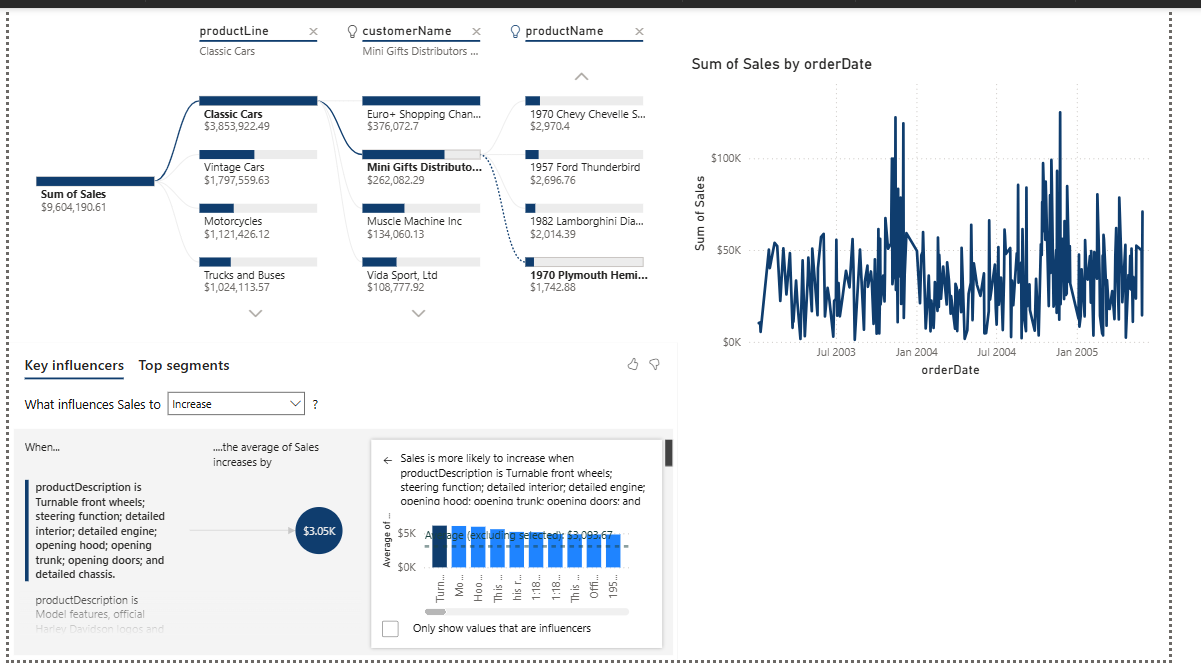

This screenshot's page, from the dashboard's own definition file:
{"tool":"powerbi","page":{"name":"Page 3","canvas":[1280,720],"ordinal":3},"visuals":[{"type":"decompositionTreeVisual","fields":{"Analyze":["Sum(order detailes.Sales)"],"ExplainBy":["productlines.productLine","Customer.customerName","products.productName"]},"box":[0,0,738.3,360],"z":0},{"type":"keyDriversVisual","fields":{"Target":["order detailes.Sales"],"ExplainBy":["products.productDescription"]},"box":[0,370,738,350],"z":1000},{"type":"lineChart","fields":{"Y":["Sum(order detailes.Sales)"],"Category":["orders.orderDate"]},"box":[748.3,51.7,531.7,360],"z":2000}]}

Visuals, with their boxes in screenshot pixels (x1, y1, x2, y2), scaled from the page's 1280x720 canvas onto the 1201x670 screenshot:
decompositionTreeVisual - Sum(order detailes.Sales) x productlines.productLine: 0:0:693:335
keyDriversVisual - order detailes.Sales x products.productDescription: 0:344:692:669
lineChart - Sum(order detailes.Sales) x orders.orderDate: 702:48:1200:383
